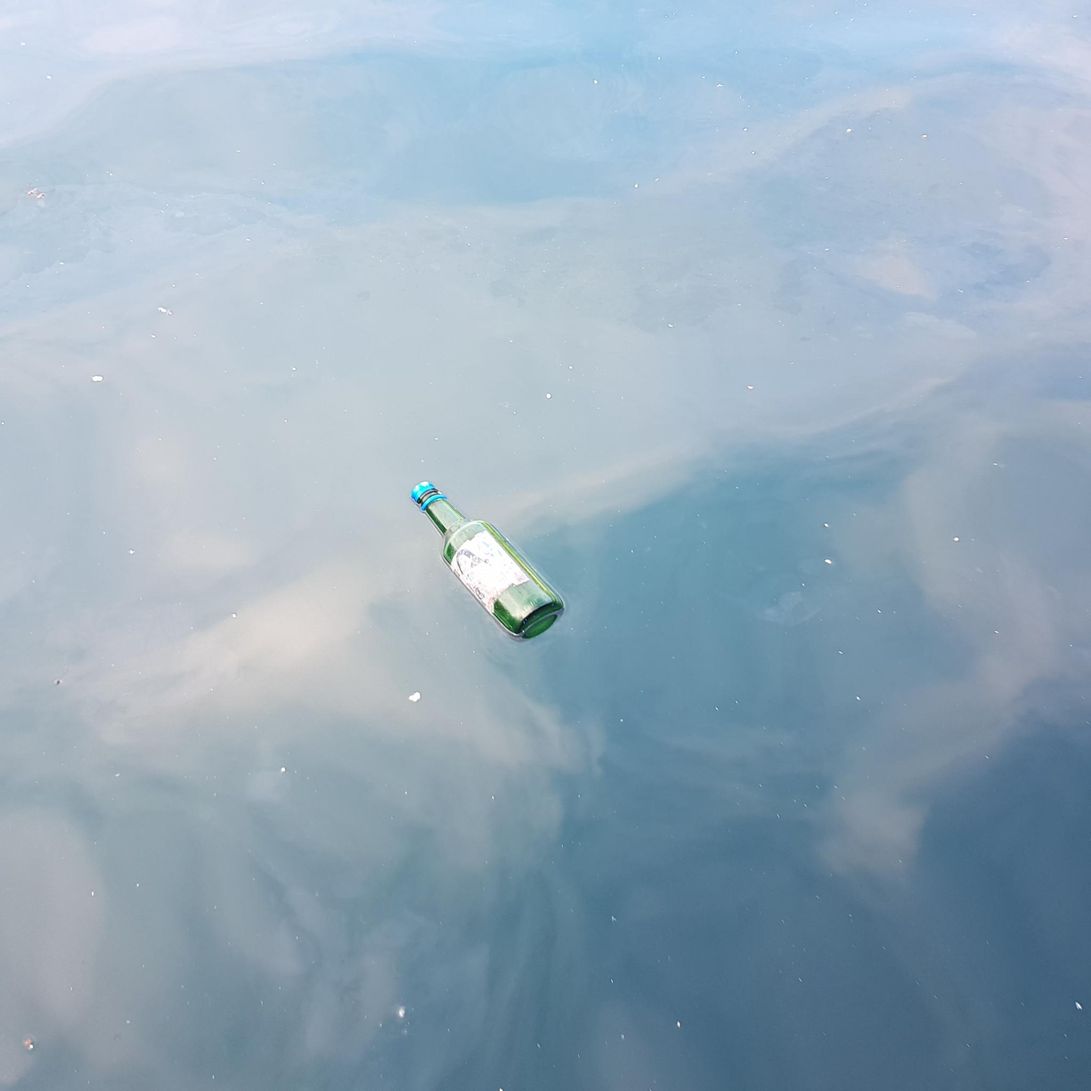sampah_terapung: (410, 482, 566, 643)
